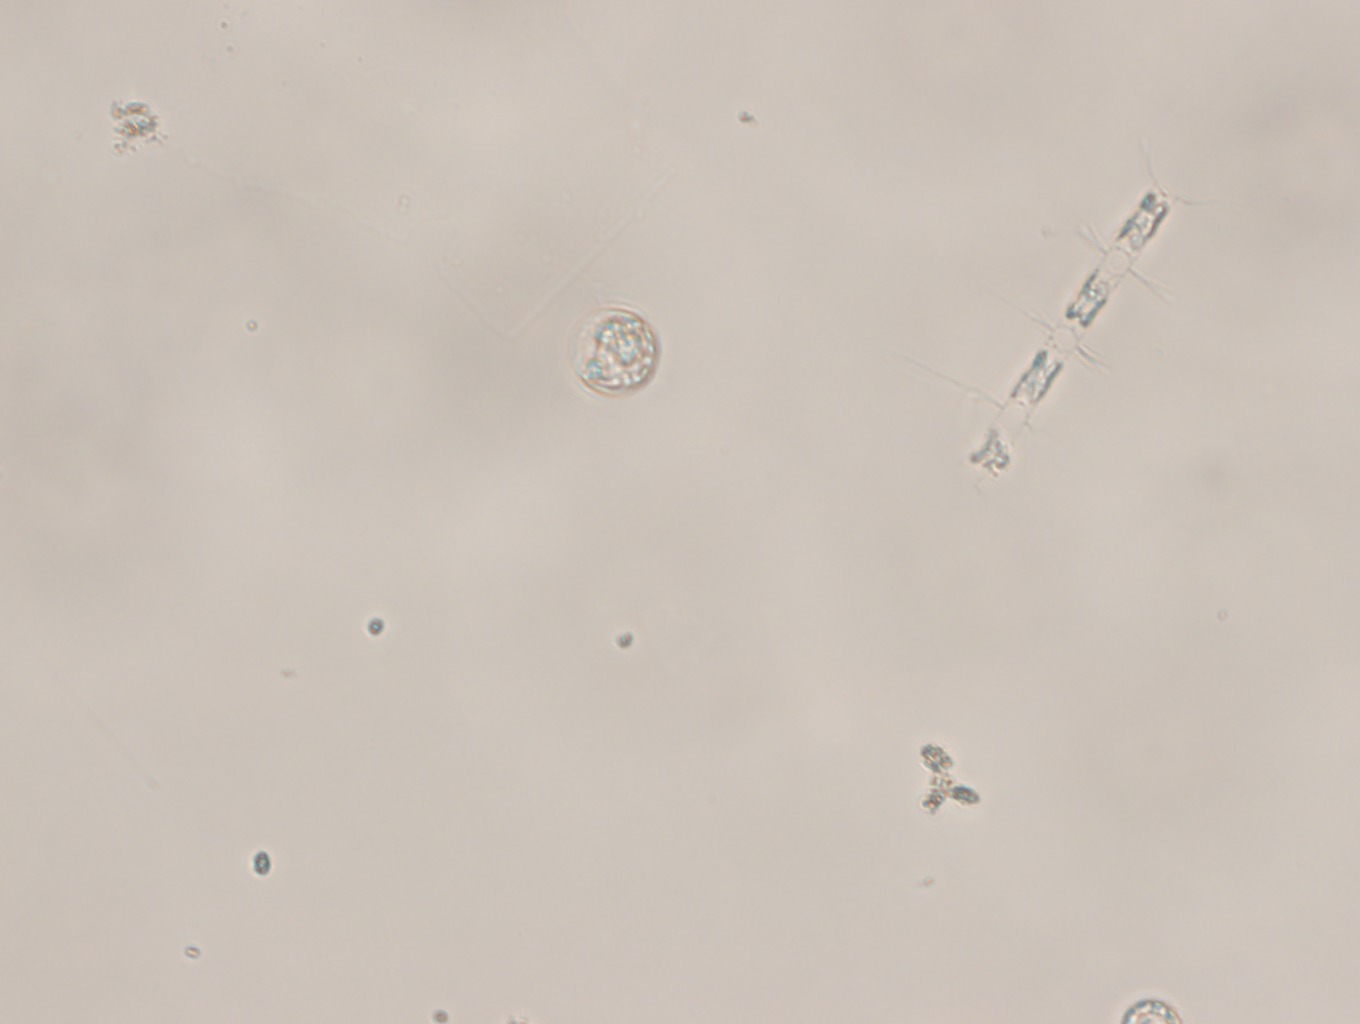chaetoceros: (940, 150, 1185, 485)
